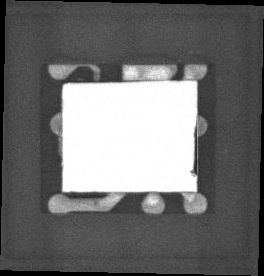DIE_BROKEN: (189, 123, 198, 177)
